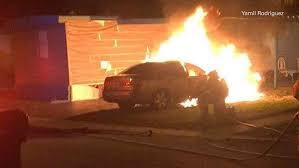fire: (147, 8, 264, 102), (179, 95, 198, 108)
